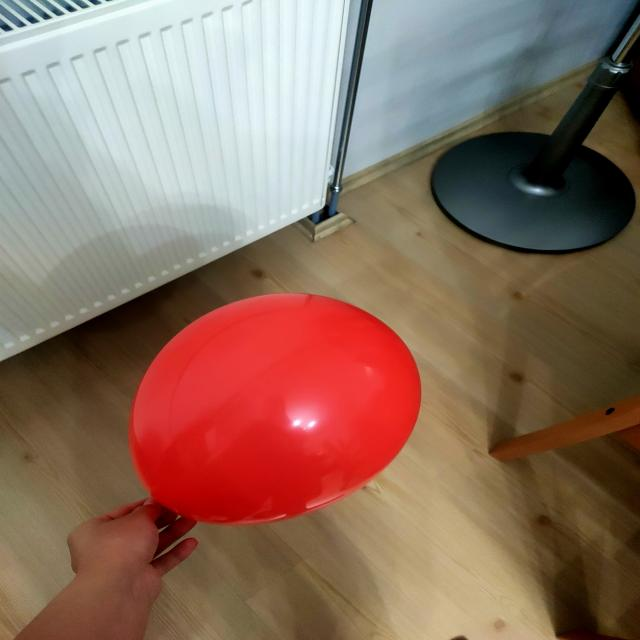red: (132, 295, 420, 528)
